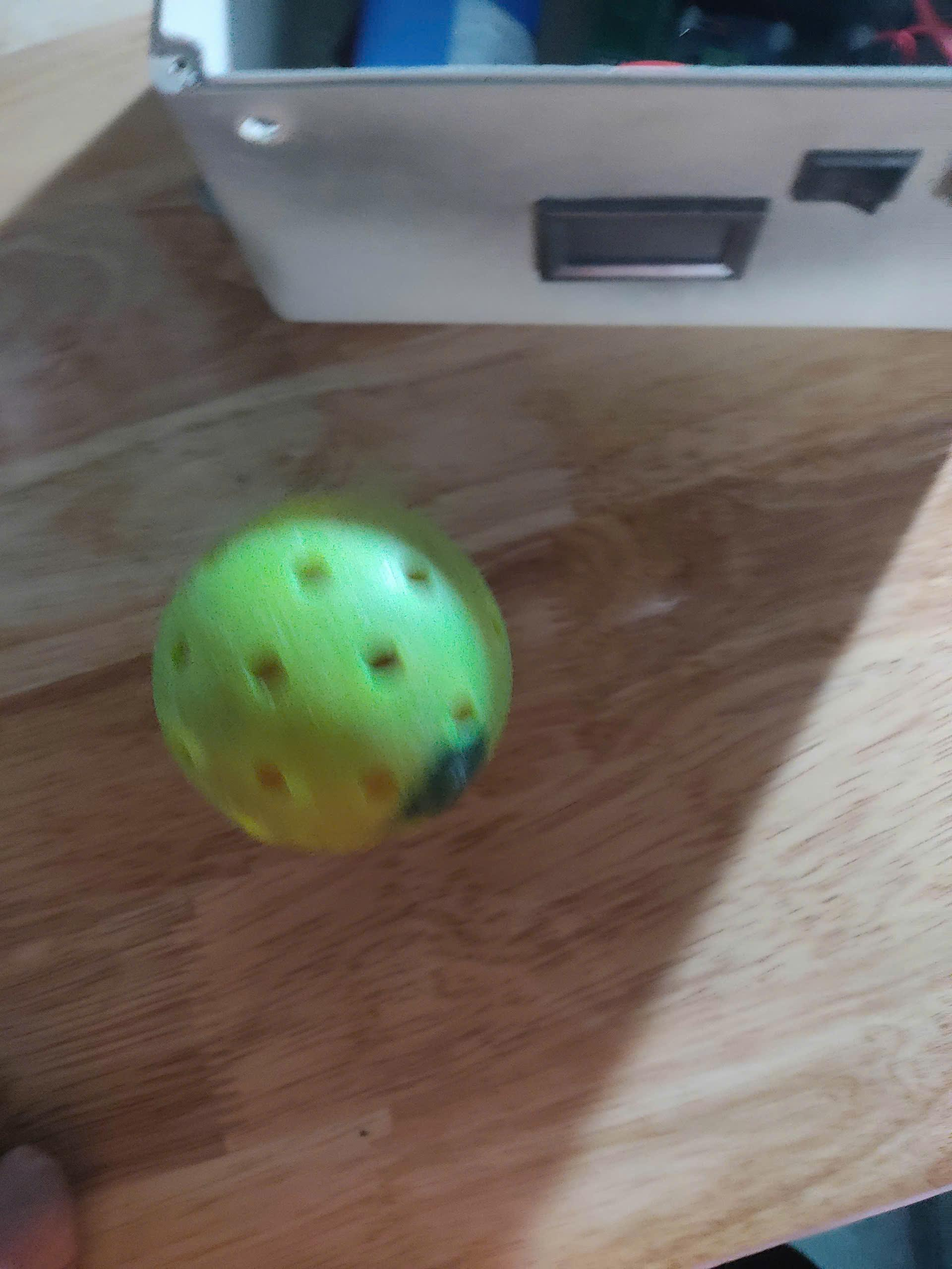ball: (136, 482, 528, 872)
